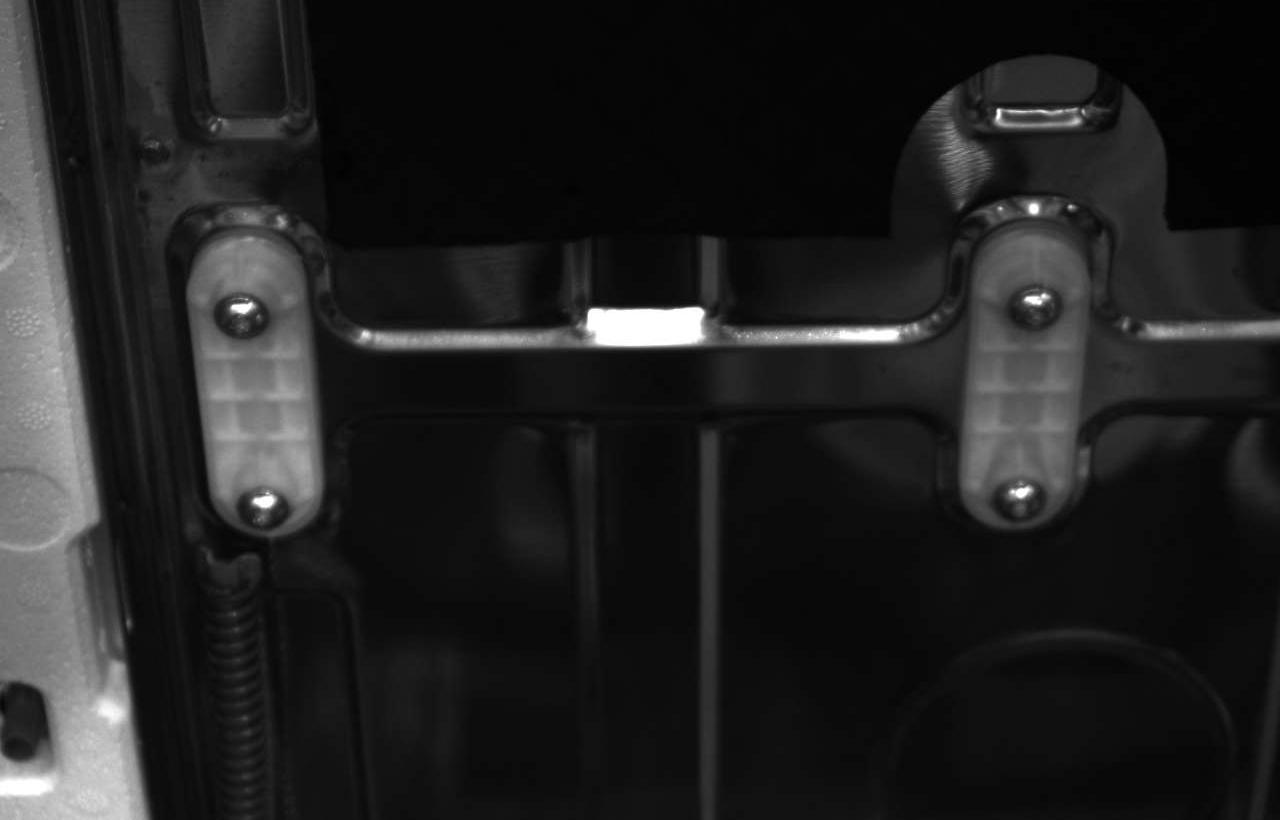vida-ok: (207, 282, 279, 349), (990, 472, 1056, 541), (1004, 277, 1071, 344), (230, 478, 296, 537)
